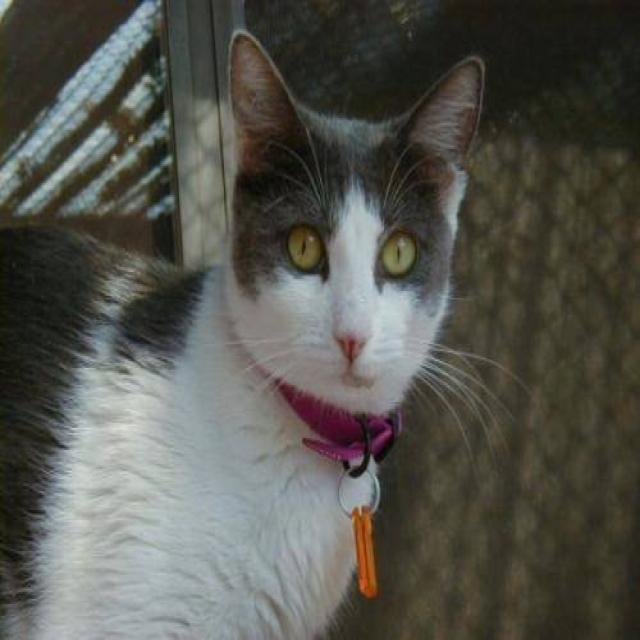cat: (0, 26, 526, 638)
